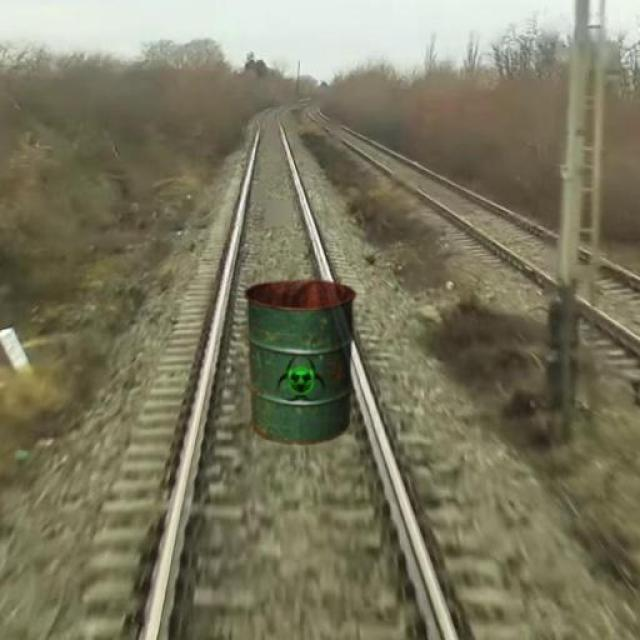Other_objects: (232, 275, 365, 452)
